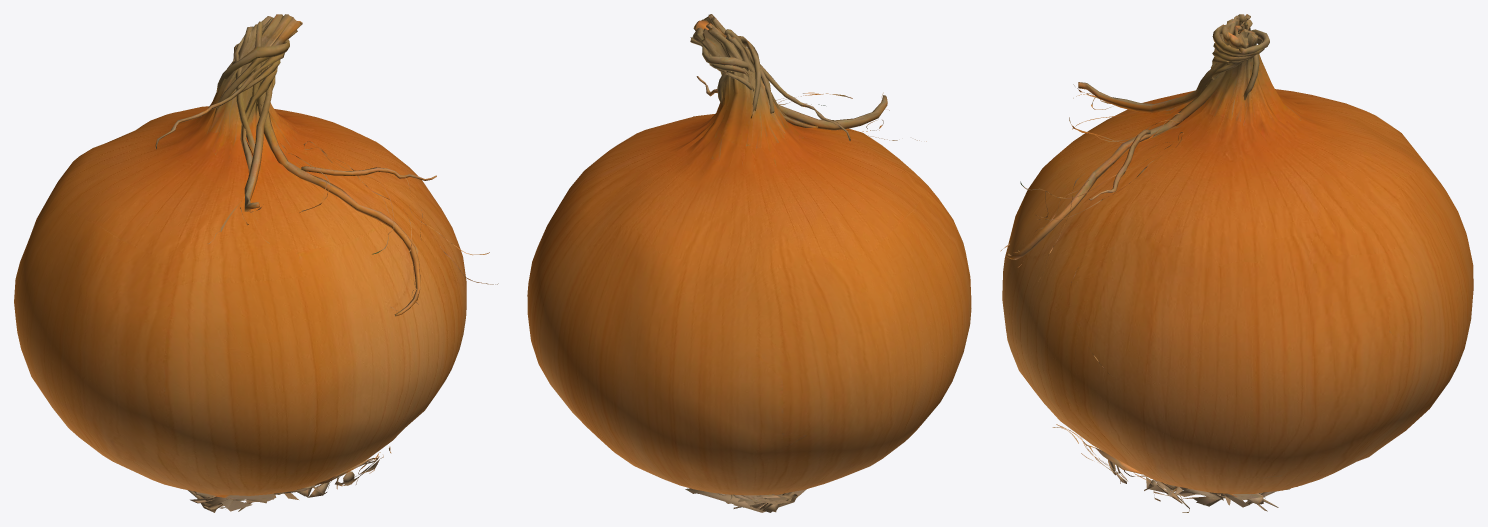
File: onion.glb
The picture shows the model from 3 angles, left to right: view 1: azimuth 30°, elevation 25°; view 2: azimuth 150°, elevation 25°; view 3: azimuth 270°, elevation 25°; orthographic projection. The views are drawn at different scales.
Size of the model in its own units: 0.8194 by 0.9473 by 0.8183.
1 material, 1 textured.
